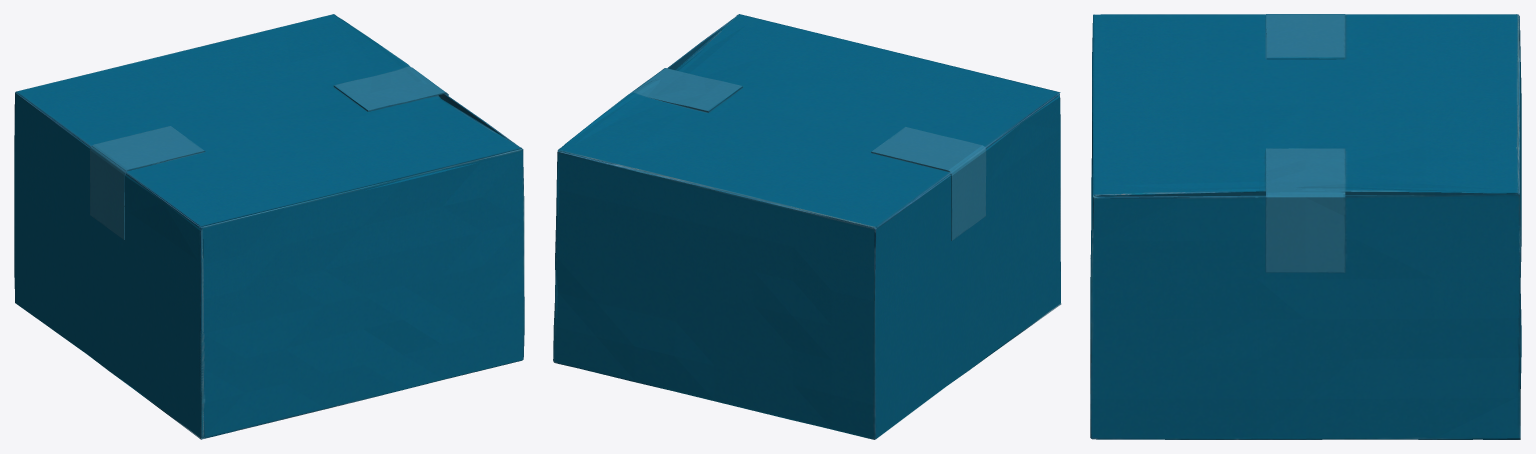
Rendered from rectangular-parcel.glb.
The picture shows the model from 3 angles, left to right: view 1: azimuth 30°, elevation 25°; view 2: azimuth 150°, elevation 25°; view 3: azimuth 270°, elevation 25°; orthographic projection. The views are drawn at different scales.
Visible parts, largest first — view 1: tripo_node_501222b1-97cf-4582-a835-eac54d238d1c; view 2: tripo_node_501222b1-97cf-4582-a835-eac54d238d1c; view 3: tripo_node_501222b1-97cf-4582-a835-eac54d238d1c.
Part boxes in pixels (x1,y1,x2,y2): tripo_node_501222b1-97cf-4582-a835-eac54d238d1c: (14,14,524,439); tripo_node_501222b1-97cf-4582-a835-eac54d238d1c: (553,14,1061,439); tripo_node_501222b1-97cf-4582-a835-eac54d238d1c: (1090,14,1521,439).
Bounding box in the file's own units: 0.998 × 0.6348 × 0.998.
1 material, 1 textured.
